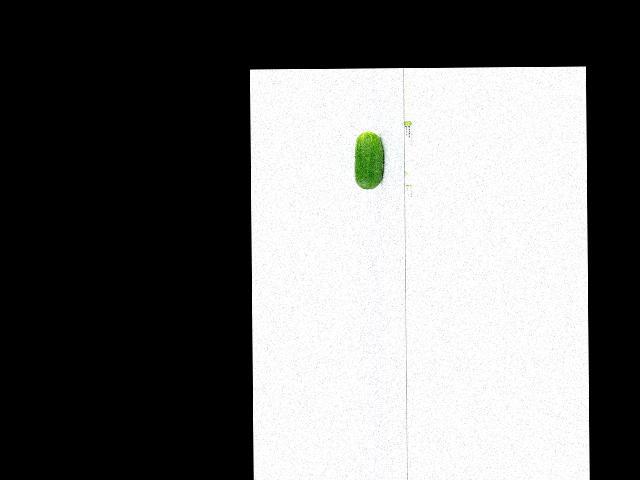cucumber: (354, 132, 384, 189)
